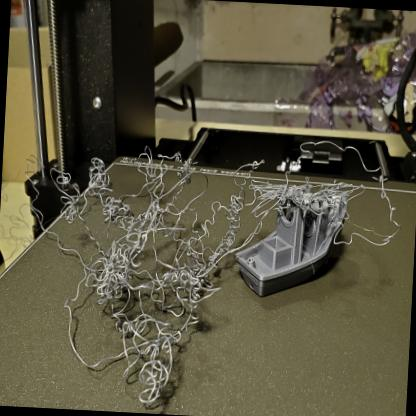fail: (56, 161, 247, 408), (245, 177, 287, 230)
